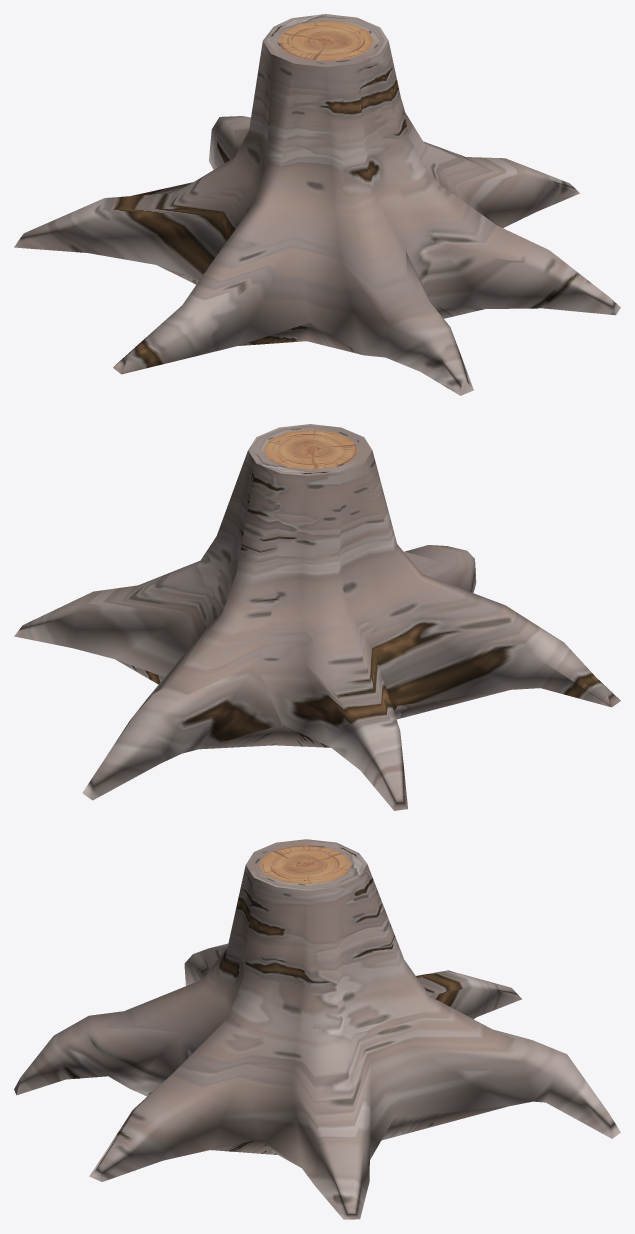
File: obj_harvests_trees_birch01_p00.fbx
The picture shows the model from 3 angles, top to bottom: view 1: azimuth 30°, elevation 25°; view 2: azimuth 150°, elevation 25°; view 3: azimuth 270°, elevation 25°; orthographic projection. The views are drawn at different scales.
Parts seen in each view (by area): view 1: chunk00; view 2: chunk00; view 3: chunk00.
Part boxes in pixels (x1,y1,x2,y2): chunk00: (14,14,620,395); chunk00: (14,424,620,810); chunk00: (14,839,620,1219).
Size of the model in its own units: 7.76 by 3.96 by 7.92.
